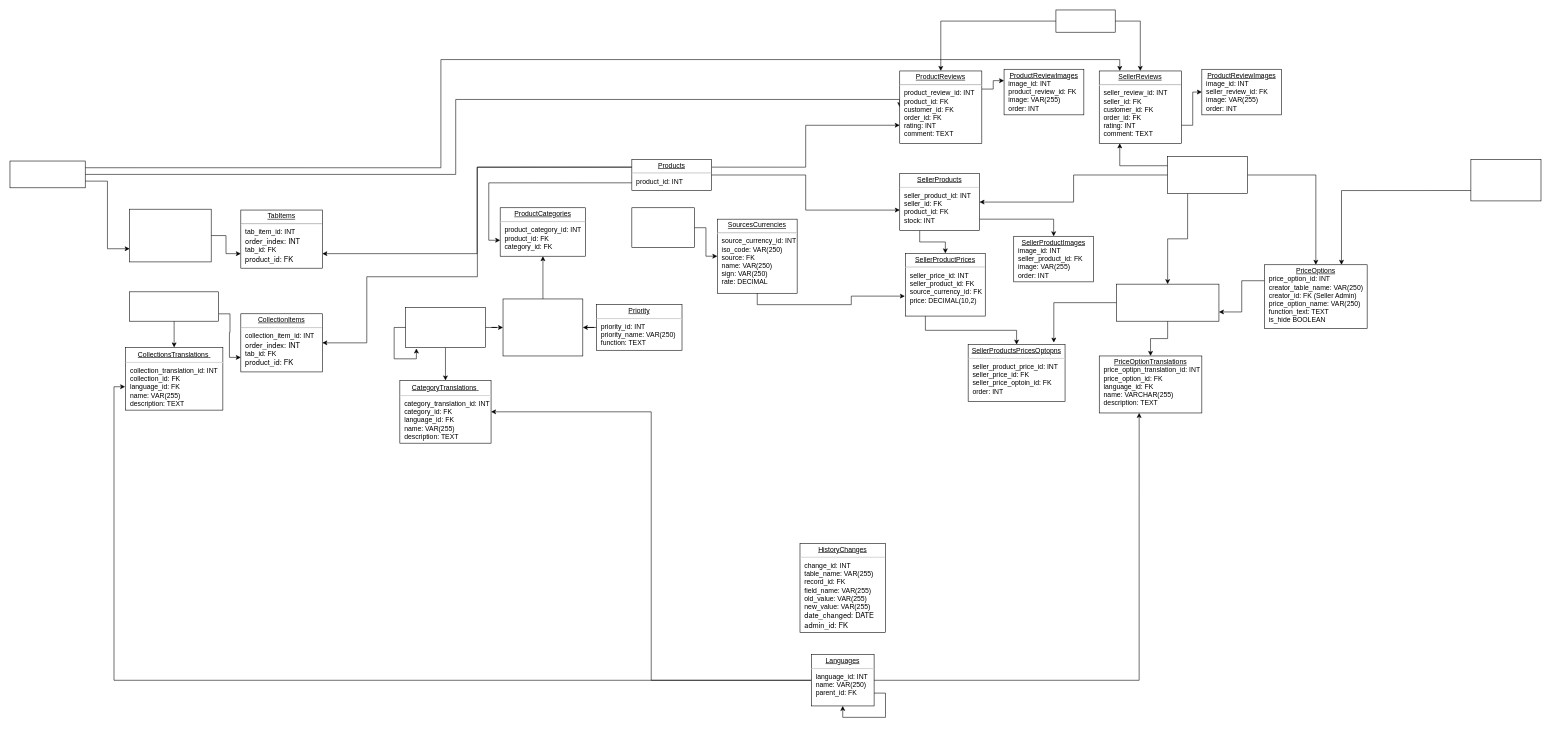
Some shapes in this 1551 by 732 pixel diagram are drawn without their labels. Each missing label, with the box of its shape:
Admins admin_id: INT nickname: VAR(250): (1470, 159, 1541, 201)
CategoriesHierarchy category_id: INT parent_category_id: FK: (405, 307, 485, 347)
CaterogiesPriority category_pririty_id: INT category_id: FK priority_id: FK: (502, 298, 583, 356)
Collections collection_id: INT: (129, 291, 219, 321)
ComparisonTabs tab_id: INT customer_id: FK name: VAR(250) description: TEXT: (129, 209, 211, 262)
Customers customer_id: INT: (9, 160, 85, 188)
Orders order_id: INT: (1055, 9, 1115, 32)
SellerPriceOptions seller_price_option_id: INT seller_id: FK price_option_id: FK: (1116, 284, 1219, 321)
Sellers seller_id: INT seller_name: VAR(255): (1167, 156, 1247, 194)
Sources source_id: INT name: VAR(250): (631, 207, 695, 248)
